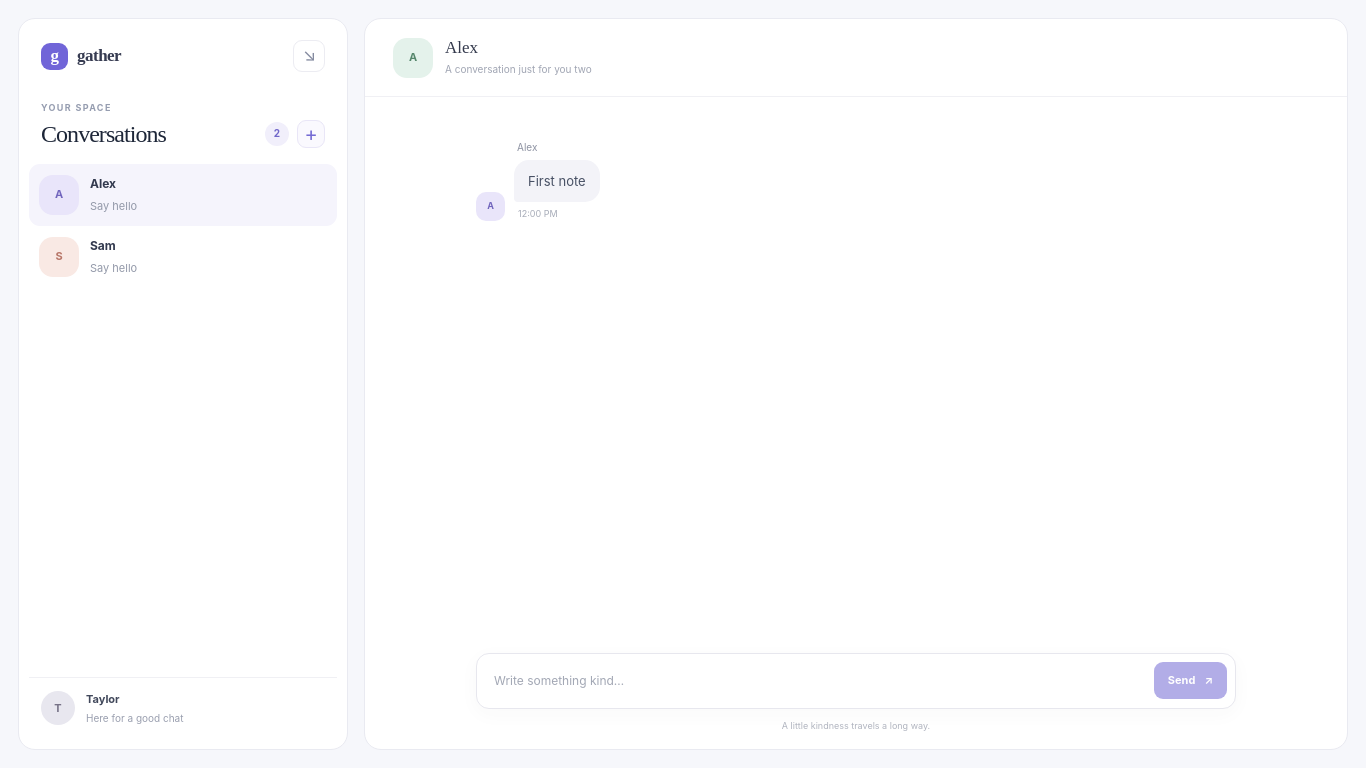
Test: chat client › does not carry one chat's messages into another selected conversation
This screenshot has width=1366, height=768.
Check: the text "First note" is shown, box top-left (514, 160), bottom-right (600, 202)
What coordinates should you click on to do the following:
click the button "S Sam Say hello"
I would click on:
 (59, 256)
Its box is top-left (29, 226), bottom-right (337, 288).
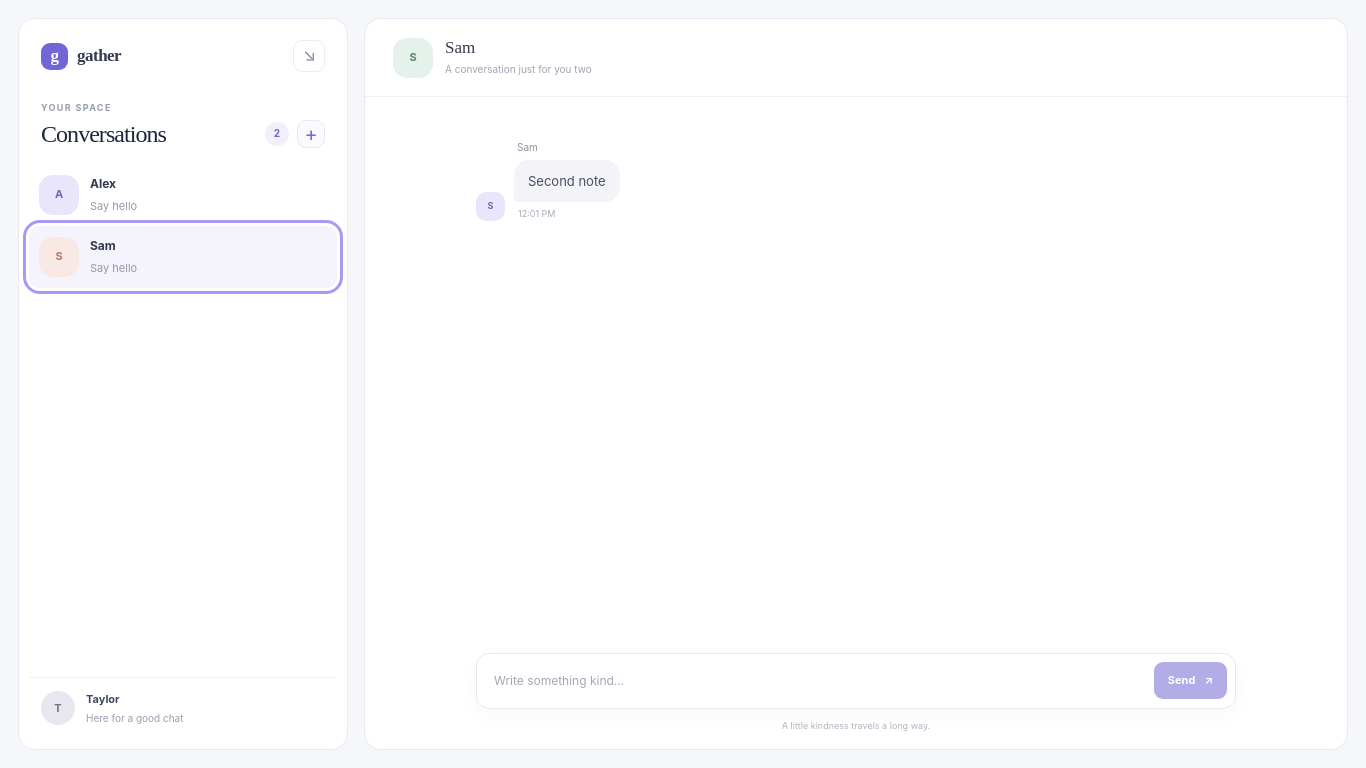
Check: the text "Second note" is shown, box top-left (514, 160), bottom-right (620, 202)
Check: the text "First note" is gone
